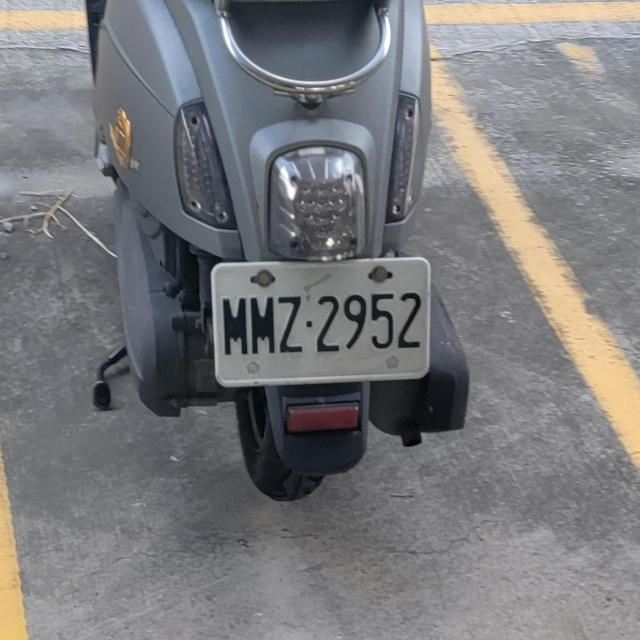W: (206, 248, 436, 390)
